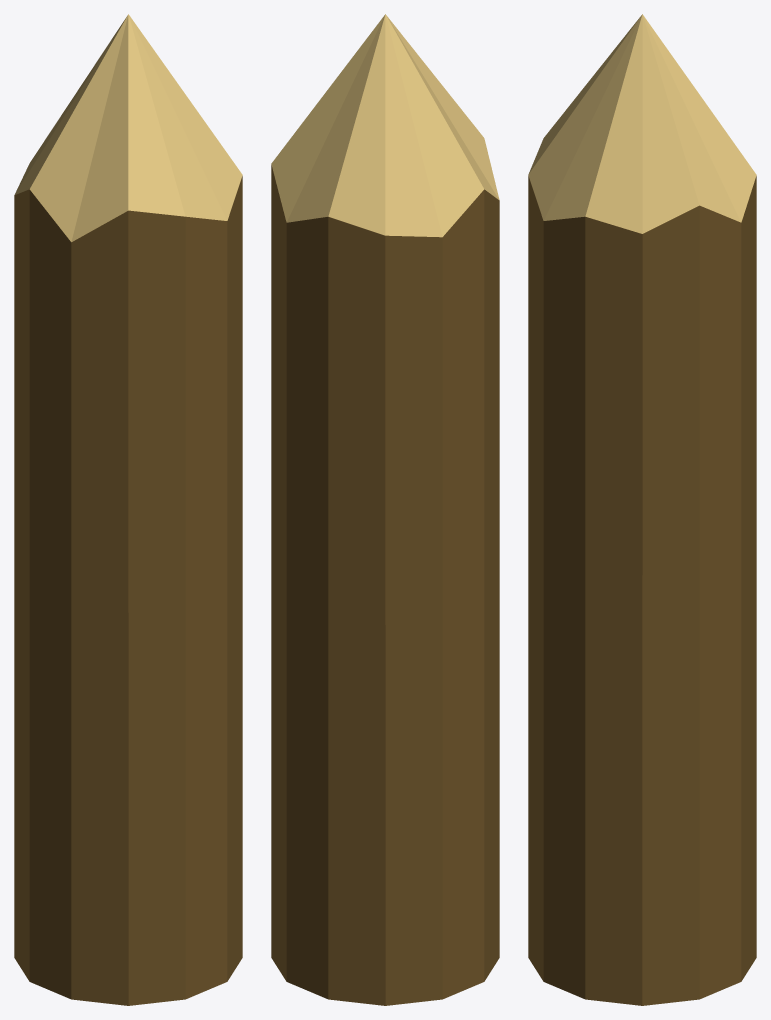
Rendered from Wall.fbx.
3 views of the same model, side by side, from view 1: azimuth 30°, elevation 25°; view 2: azimuth 150°, elevation 25°; view 3: azimuth 270°, elevation 25° (orthographic).
Parts seen in each view (by area): view 1: WoodFence; view 2: WoodFence; view 3: WoodFence.
Boxes of the visible parts, left/top/right/bottom form: WoodFence: left=14, top=14, right=242, bottom=1005; WoodFence: left=271, top=14, right=499, bottom=1005; WoodFence: left=528, top=14, right=756, bottom=1005.
Size of the model in its own units: 200 by 912 by 200.
